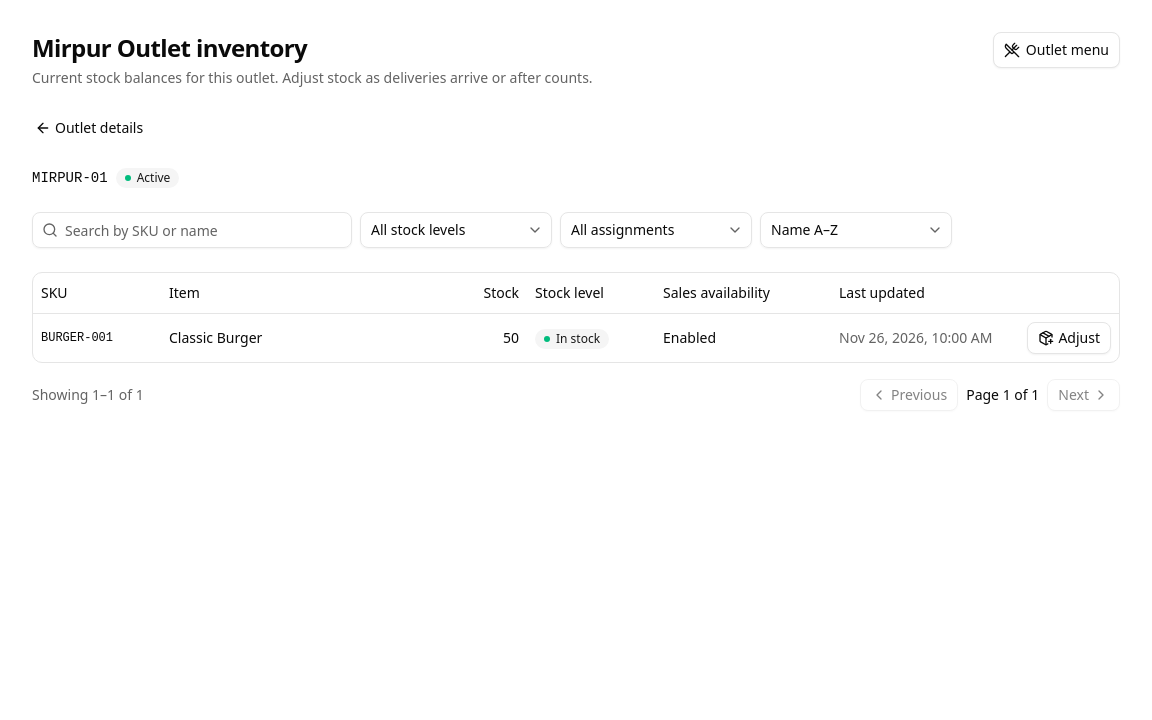
Test: Adjusting stock › adds stock with a preview and refreshes inventory and outlet-menu caches
Click the button with aria-label "Adjust stock for Classic Burger": [1069, 338] box [1027,322,1111,354]
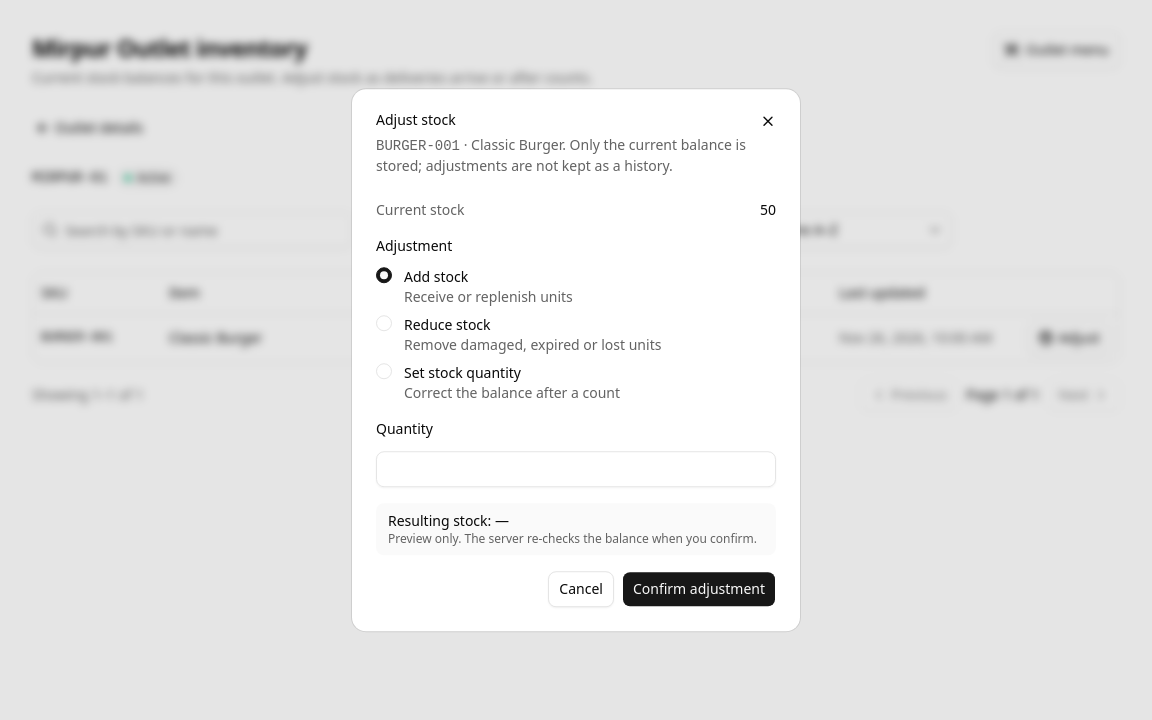
expect the text with test id "baseline-stock" reads "50": met, box [760,200,776,219]
In the field labelled "Quantity": [576, 469] box [376,451,776,487], type "20"
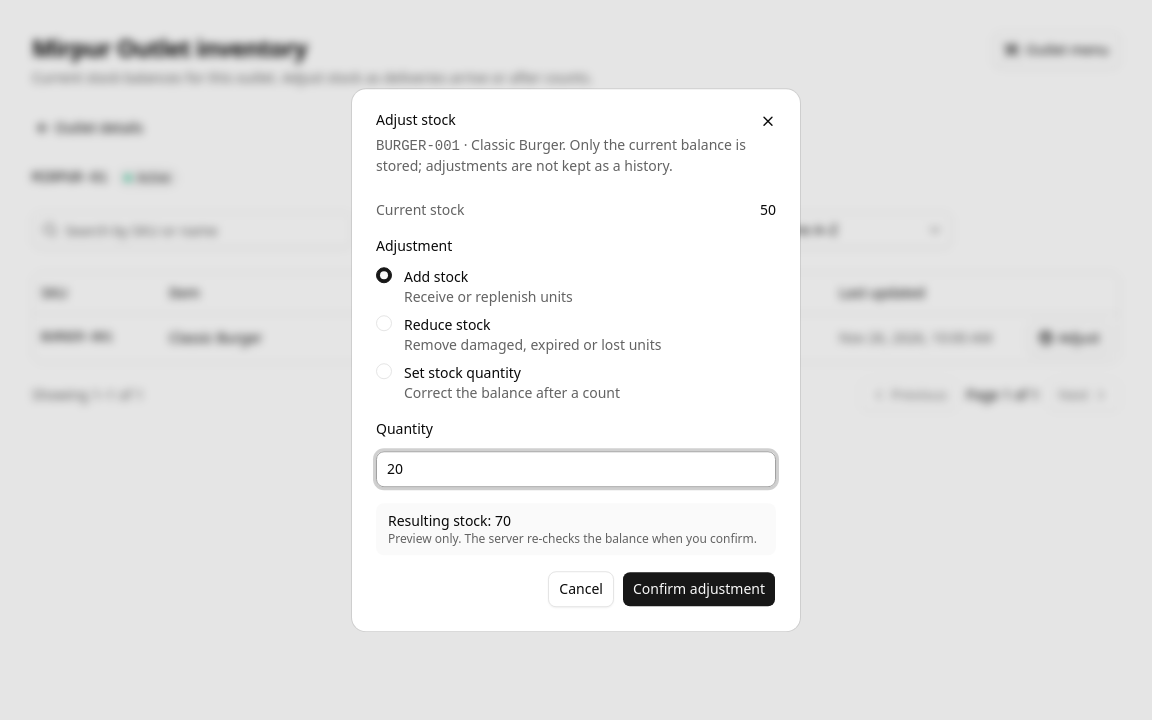
expect the text "Resulting stock" shows "70": met, box [495,511,511,530]
Click the button "Confirm adjustment": [699, 589] box [622,571,776,607]
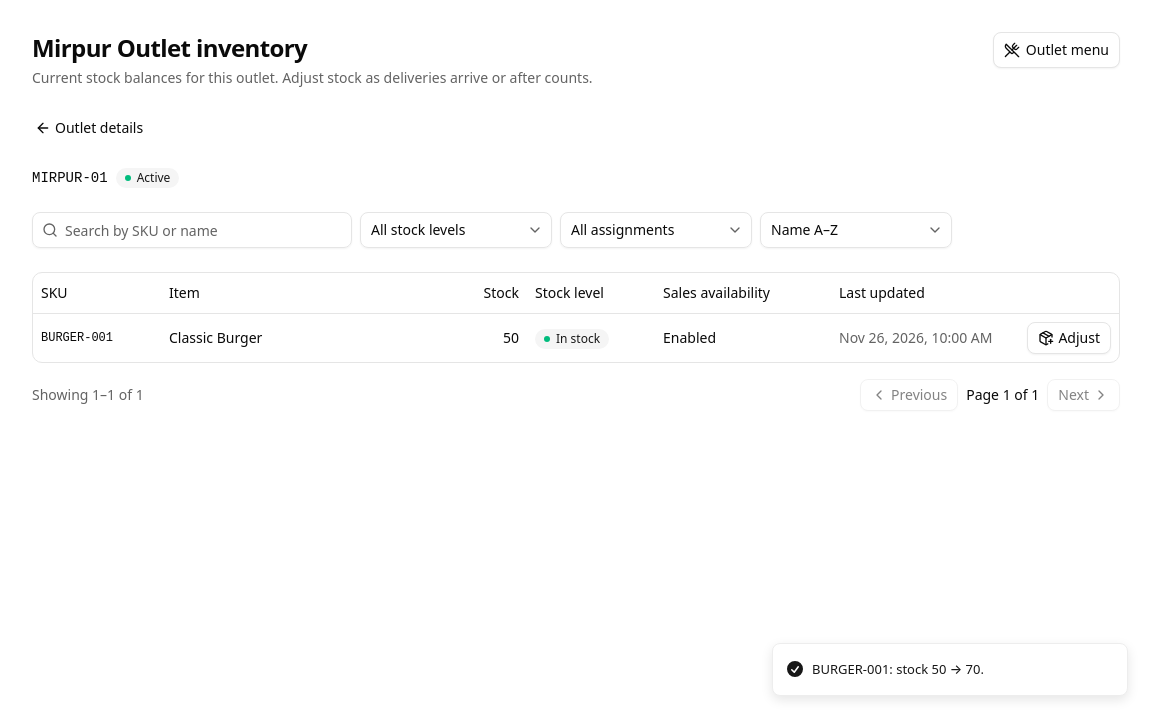
expect the text "BURGER-001: stock 50 → 70." is shown: met, box [812,660,984,679]
